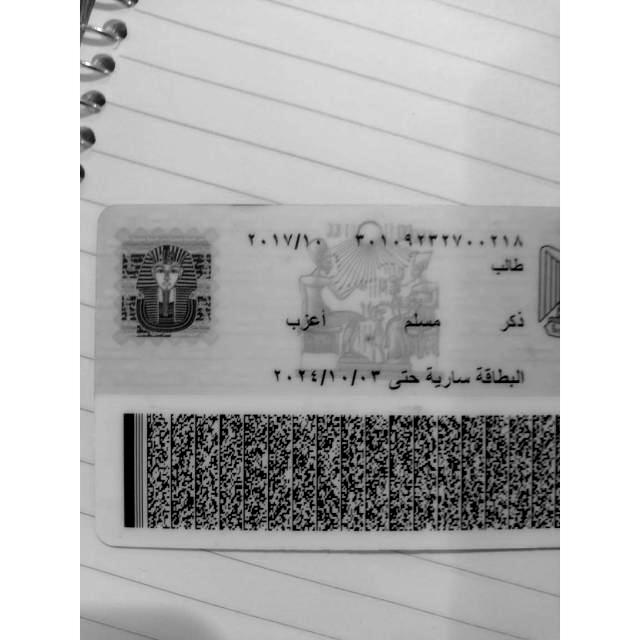id_card: (94, 206, 561, 551)
